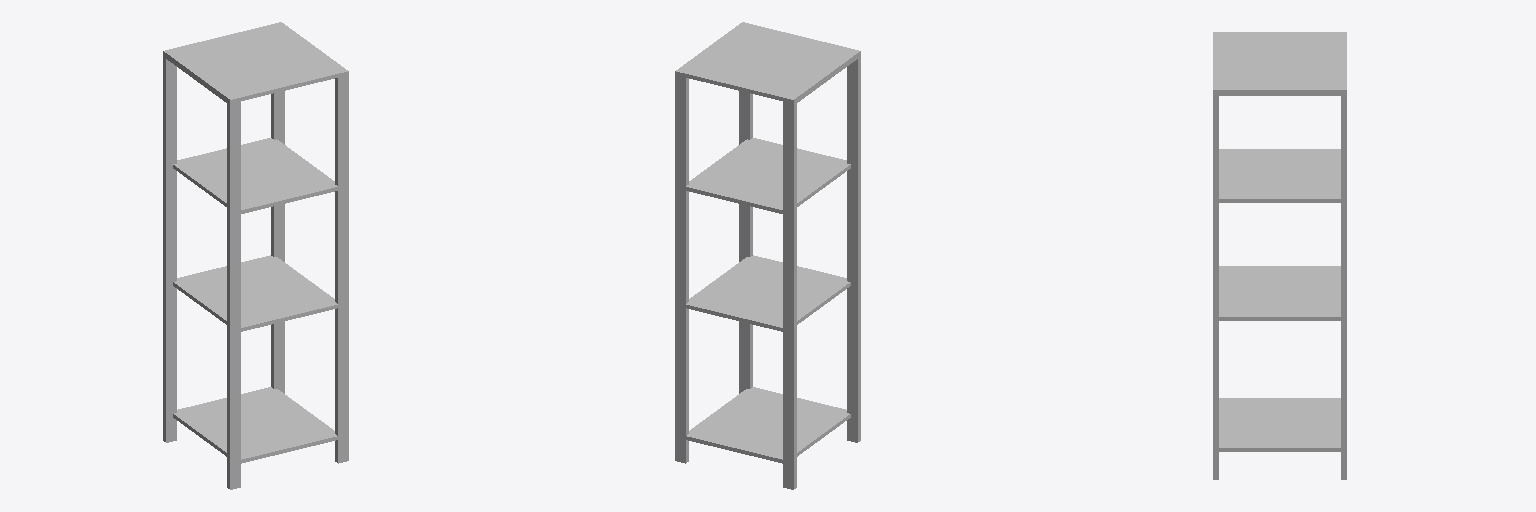
Rendered from IKEA-ALBERT_Etagere-3D.obj.
The picture shows the model from 3 angles: view 1: azimuth 30°, elevation 25°; view 2: azimuth 150°, elevation 25°; view 3: azimuth 270°, elevation 25°; orthographic projection.
Visible parts, largest first — view 1: Line002, Line001, Box001, Box004, Box006, Box008; view 2: Line002, Line001, Box001, Box004, Box006, Box008; view 3: Box006, Box001, Box004, Box008, Line001, Line002.
Part boxes in pixels (x1,y1,x2,y2): Line002: (163,49,240,489); Line001: (271,22,348,463); Box001: (171,24,339,100); Box004: (173,138,337,213); Box006: (173,255,337,331); Box008: (173,387,337,463); Line002: (783,49,860,489); Line001: (675,22,752,463); Box001: (684,24,852,100); Box004: (686,138,850,213); Box006: (686,255,850,331); Box008: (686,387,850,463); Box006: (1219,266,1340,320); Box001: (1213,36,1346,85); Box004: (1219,149,1340,202); Box008: (1219,398,1340,451); Line001: (1213,86,1346,479); Line002: (1213,32,1346,35).
Size of the model in its own units: 640 by 2015 by 630.